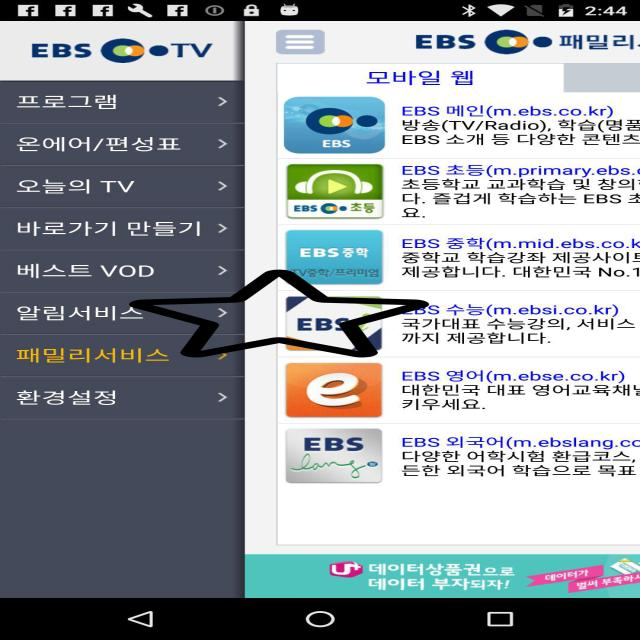forced continuity: (129, 268, 429, 359)
